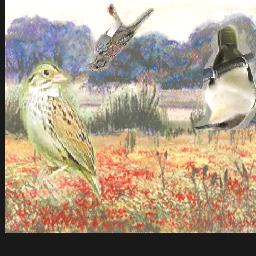Cuckoo: (193, 24, 256, 130)
Sparrow: (21, 59, 102, 210), (84, 4, 154, 72)
